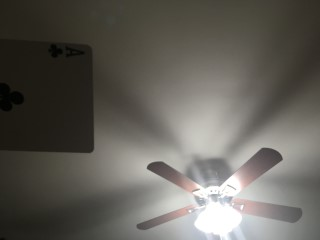AceOfClubs: (1, 40, 94, 154)
